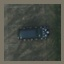car: (17, 26, 51, 41)
